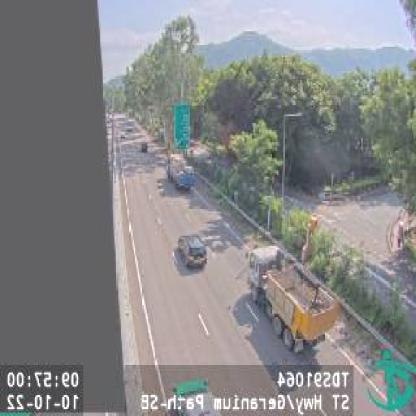Car: (176, 233, 206, 268)
Truck: (248, 240, 342, 354), (167, 155, 195, 193)
